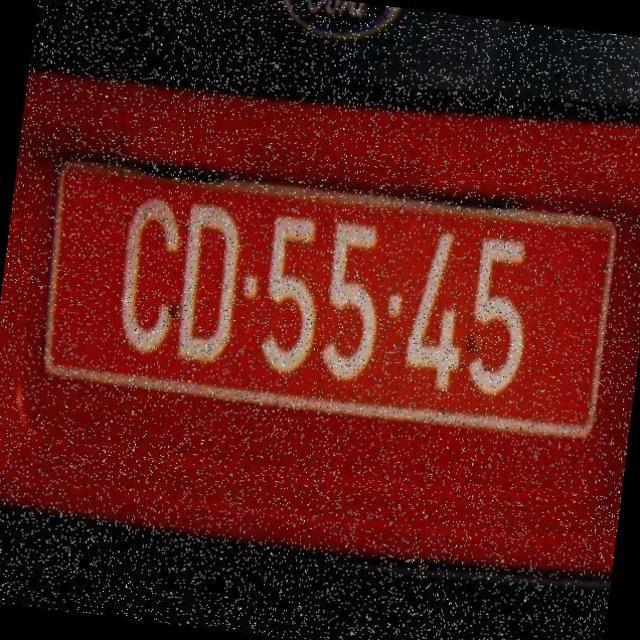License Plate: (18, 115, 634, 472)
